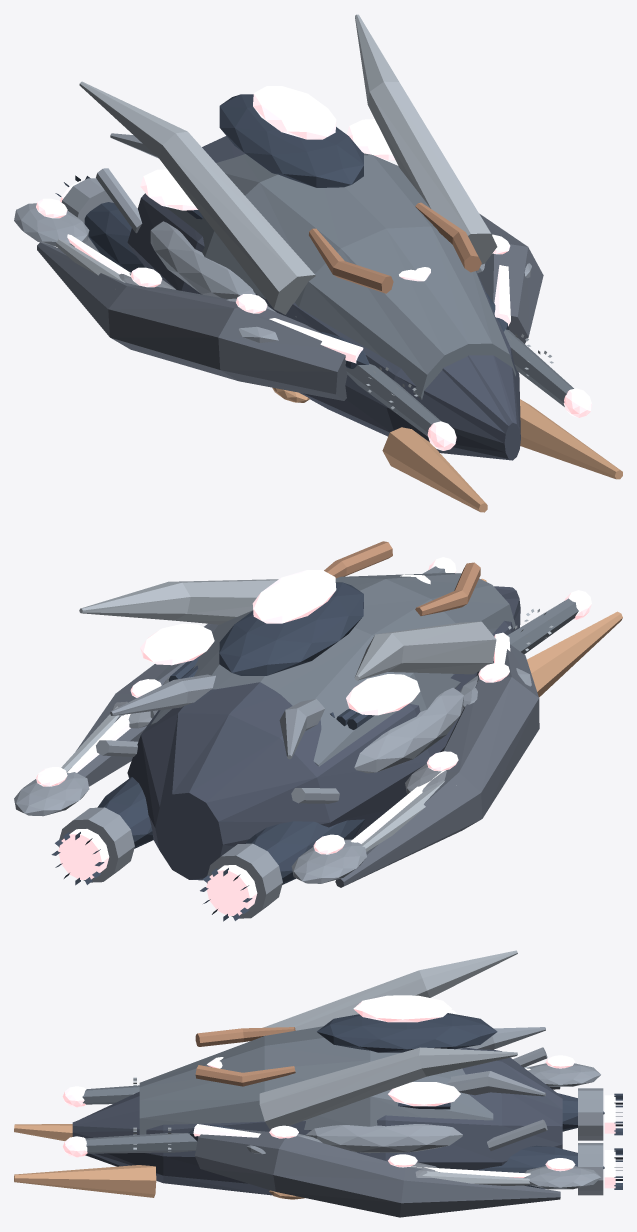
Rendered from npc_bossStreuner.glb.
3 renders of one model, top to bottom at view 1: azimuth 30°, elevation 25°; view 2: azimuth 150°, elevation 25°; view 3: azimuth 270°, elevation 25°, orthographic. The views are drawn at different scales.
Parts seen in each view (by area): view 1: upper_armor_scar, armored_scythe_-1, keel_pressure_hull, prime_arch_back_-1, prime_arch_back_1, prime_reactor_tower, armored_scythe_1, prime_secondary_horn_-1, heavy_shield_pad_-1, prime_emitter, prime_secondary_horn_1, long_plasma_cannon_-1 (+13 smaller); view 2: keel_pressure_hull, upper_armor_scar, armored_scythe_-1, prime_reactor_tower, prime_arch_back_-1, prime_arch_back_1, heavy_shield_pad_-1, prime_emitter, engine_armor_-1, prime_secondary_horn_-1, exhaust_coil_-1, exhaust_coil_1 (+20 smaller); view 3: armored_scythe_1, upper_armor_scar, keel_pressure_hull, prime_arch_back_1, prime_reactor_tower, prime_arch_back_-1, heavy_shield_pad_1, prime_secondary_horn_1, prime_emitter, long_plasma_cannon_1, predator_dorsal_fang_1, prime_glowing_armor_1 (+19 smaller).
Boxes of the visible parts, box(x1,y1,x2,y2) form: upper_armor_scar: box(165, 153, 515, 399); armored_scythe_-1: box(37, 242, 347, 400); keel_pressure_hull: box(127, 136, 520, 460); prime_arch_back_-1: box(79, 81, 315, 314); prime_arch_back_1: box(355, 14, 497, 264); prime_reactor_tower: box(219, 94, 363, 187); armored_scythe_1: box(477, 213, 543, 343); prime_secondary_horn_-1: box(382, 427, 487, 512); heavy_shield_pad_-1: box(150, 221, 255, 298); prime_emitter: box(253, 86, 336, 139); prime_secondary_horn_1: box(520, 399, 622, 479); long_plasma_cannon_-1: box(346, 363, 440, 436); keel_pressure_hull: box(127, 586, 520, 880); upper_armor_scar: box(150, 573, 515, 766); armored_scythe_-1: box(335, 644, 539, 887); prime_reactor_tower: box(219, 582, 363, 675); prime_arch_back_-1: box(354, 621, 496, 680); prime_arch_back_1: box(79, 579, 278, 624); heavy_shield_pad_-1: box(354, 687, 463, 773); prime_emitter: box(252, 570, 336, 623); engine_armor_-1: box(245, 819, 364, 884); prime_secondary_horn_-1: box(527, 611, 622, 697); exhaust_coil_-1: box(207, 843, 282, 918); exhaust_coil_1: box(59, 807, 134, 882); armored_scythe_1: box(195, 1128, 560, 1217); upper_armor_scar: box(139, 1026, 493, 1134); keel_pressure_hull: box(72, 1047, 562, 1195); prime_arch_back_1: box(259, 1047, 517, 1129); prime_reactor_tower: box(317, 1013, 497, 1052); prime_arch_back_-1: box(263, 950, 517, 1030); heavy_shield_pad_1: box(306, 1124, 462, 1153); prime_secondary_horn_1: box(14, 1165, 156, 1197); prime_emitter: box(353, 995, 451, 1022); long_plasma_cannon_1: box(85, 1133, 197, 1153); predator_dorsal_fang_1: box(447, 1071, 545, 1096); prime_glowing_armor_1: box(388, 1082, 460, 1106).
Bounding box in the file's own units: 2.08 × 1.32 × 3.86.
